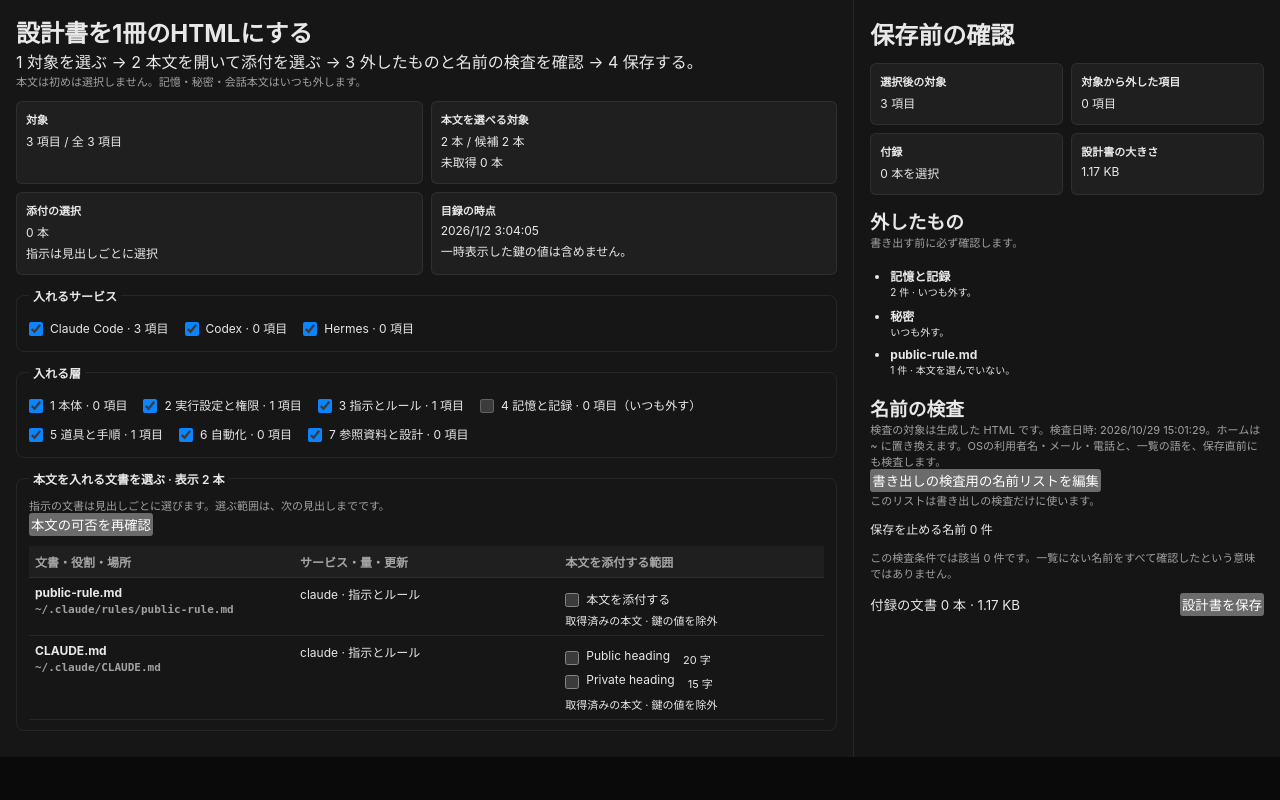
Scenario: agent design export › shows a new final-gate hit returned by the backend
The width and height of the screenshot is (1280, 800).
Click the button "設計書を保存".
click(1222, 604)  # box [1180, 593, 1264, 616]
Wait 250 ms
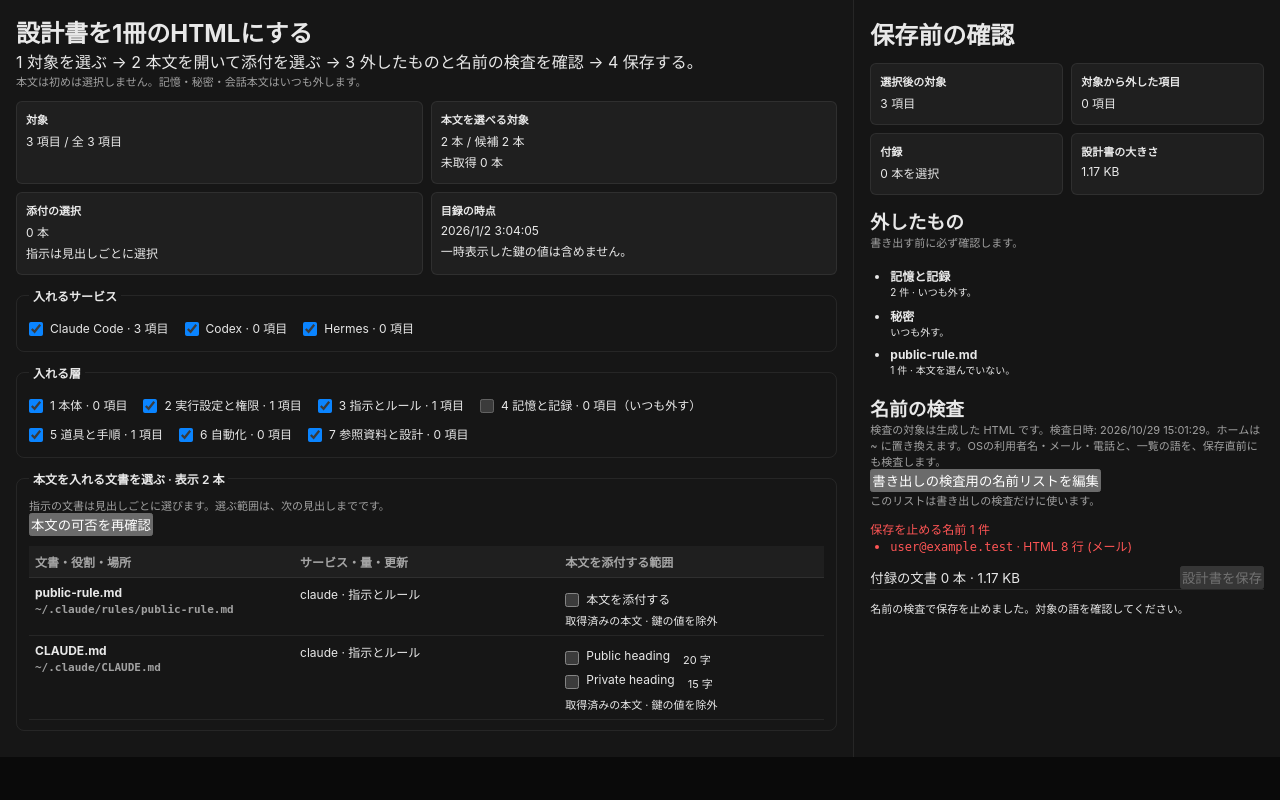
Check: the text "名前の検査で保存を止めました" is shown, box [870, 602, 1189, 616]
Check: the button "設計書を保存" is disabled, box [1180, 566, 1264, 589]
